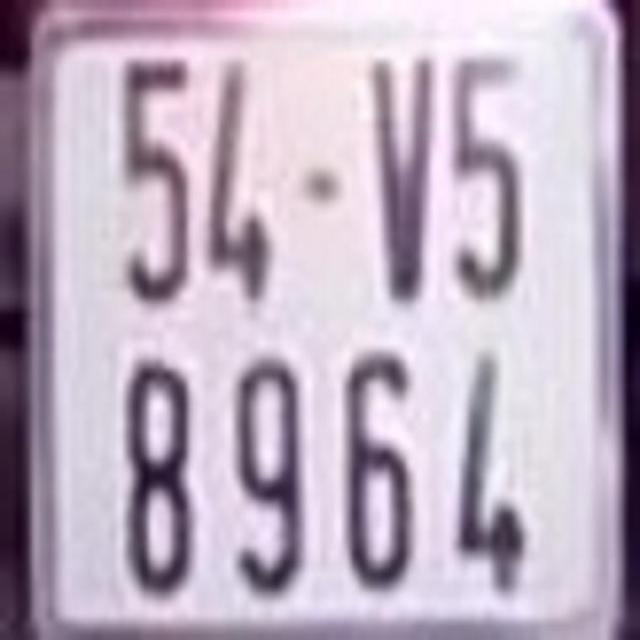4: (447, 346, 529, 601), (198, 55, 269, 306)
5: (446, 39, 525, 296), (115, 56, 192, 302)
6: (338, 348, 418, 592)
8: (116, 354, 200, 600)
9: (228, 348, 304, 600)
V: (362, 38, 439, 296)
